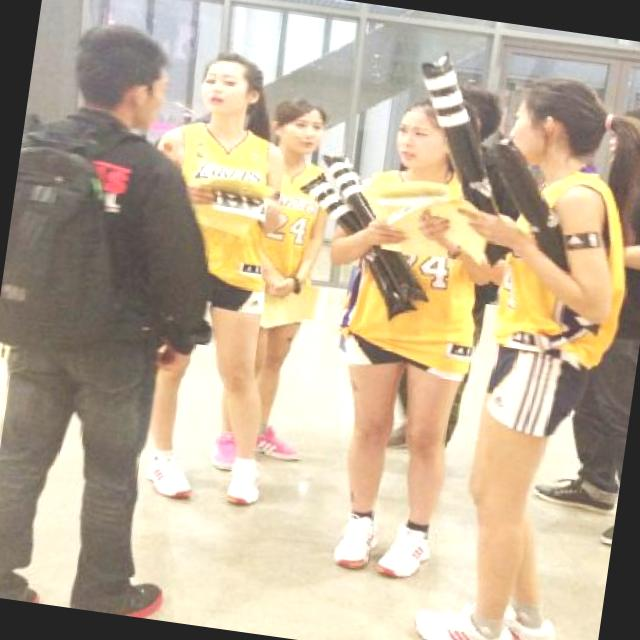Person: (96, 26, 333, 532)
